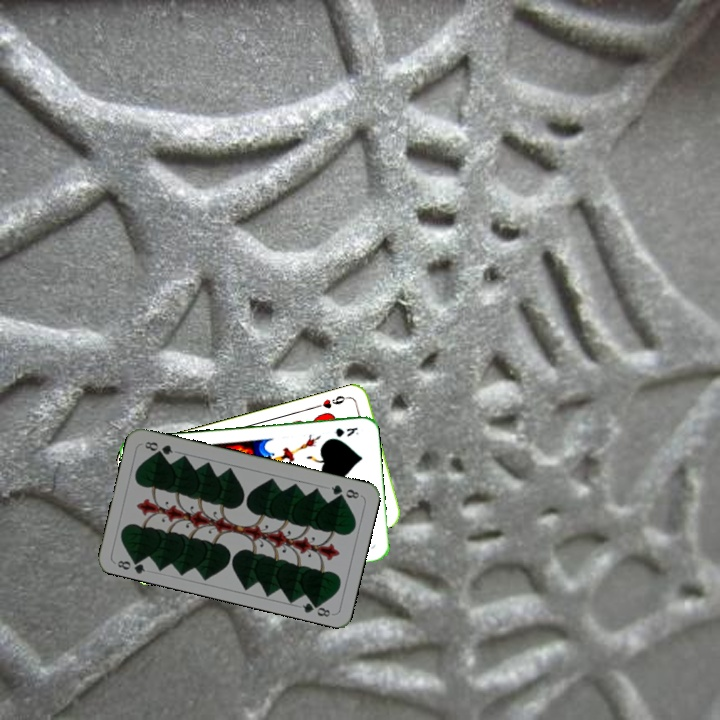G8: (113, 553, 148, 576), (327, 481, 362, 501)
GK: (331, 423, 361, 440)
H9: (312, 391, 352, 411)
